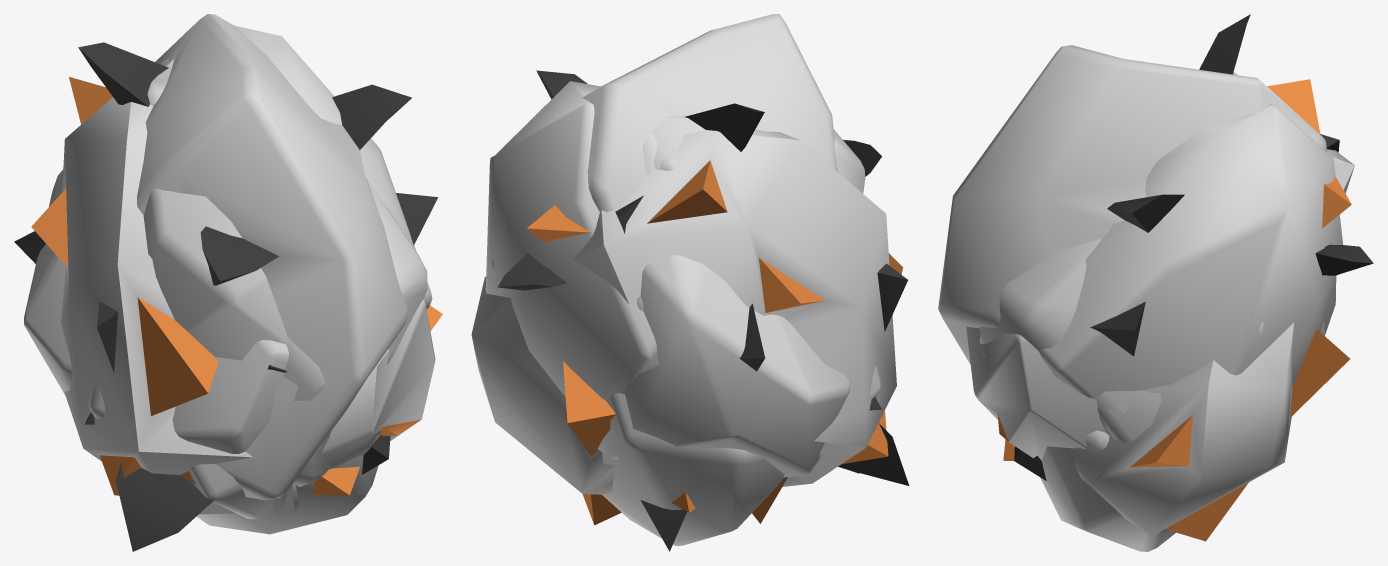
The model's file is S_astroids v2.fbx.
The picture shows the model from 3 angles, left to right: view 1: azimuth 30°, elevation 25°; view 2: azimuth 150°, elevation 25°; view 3: azimuth 270°, elevation 25°; orthographic projection. The views are drawn at different scales.
Parts seen in each view (by area): view 1: astroids iron 1, astroids copper 3, astroids 3, astroids copper 1, astroids iron 4, astroids 1, astroids 2; view 2: astroids copper 3, astroids copper 1, astroids iron 1, astroids 2, astroids 3, astroids iron 4, astroids 1; view 3: astroids 2, astroids iron 1, astroids copper 3, astroids copper 1, astroids 1, astroids 3, astroids iron 4.
Boxes of the visible parts, left/top/right/bottom form: astroids iron 1: left=14, top=14, right=411, bottom=551; astroids copper 3: left=31, top=77, right=442, bottom=514; astroids 3: left=143, top=188, right=378, bottom=534; astroids copper 1: left=24, top=59, right=435, bottom=519; astroids iron 4: left=97, top=193, right=437, bottom=453; astroids 1: left=147, top=58, right=427, bottom=486; astroids 2: left=234, top=25, right=432, bottom=309; astroids copper 3: left=471, top=129, right=903, bottom=525; astroids copper 1: left=491, top=132, right=850, bottom=523; astroids iron 1: left=497, top=14, right=909, bottom=551; astroids 2: left=485, top=81, right=659, bottom=400; astroids 3: left=602, top=129, right=865, bottom=545; astroids iron 4: left=615, top=157, right=907, bottom=473; astroids 1: left=652, top=115, right=705, bottom=170; astroids 2: left=1039, top=104, right=1343, bottom=398; astroids iron 1: left=938, top=14, right=1373, bottom=480; astroids copper 3: left=1003, top=72, right=1354, bottom=541; astroids copper 1: left=966, top=277, right=1336, bottom=460; astroids 1: left=979, top=225, right=1133, bottom=440; astroids 3: left=1040, top=321, right=1324, bottom=551; astroids iron 4: left=982, top=134, right=1339, bottom=430.
Size of the model in its own units: 118 by 141 by 121.
